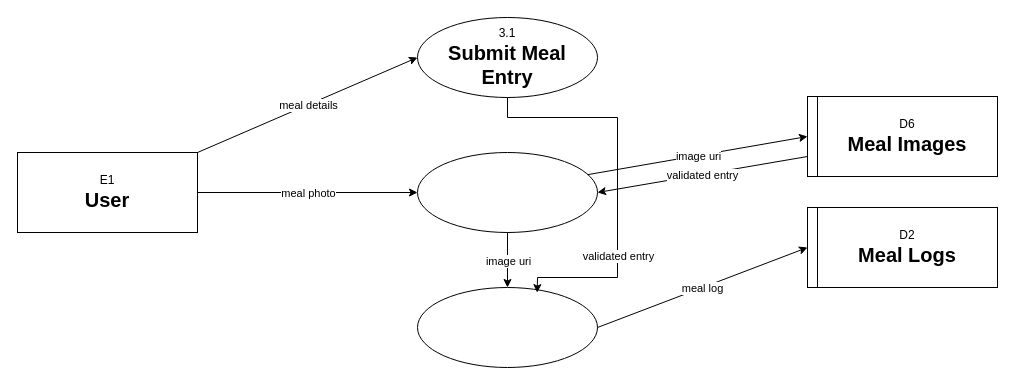
Image size: 1015x385. Some labels were removed from this diagram. Each missing label, with the centre of its shape:
"3.2 Upload / Link Photo" goes at point 507,192.
"3.3 Store Meal Log" goes at point 507,327.
